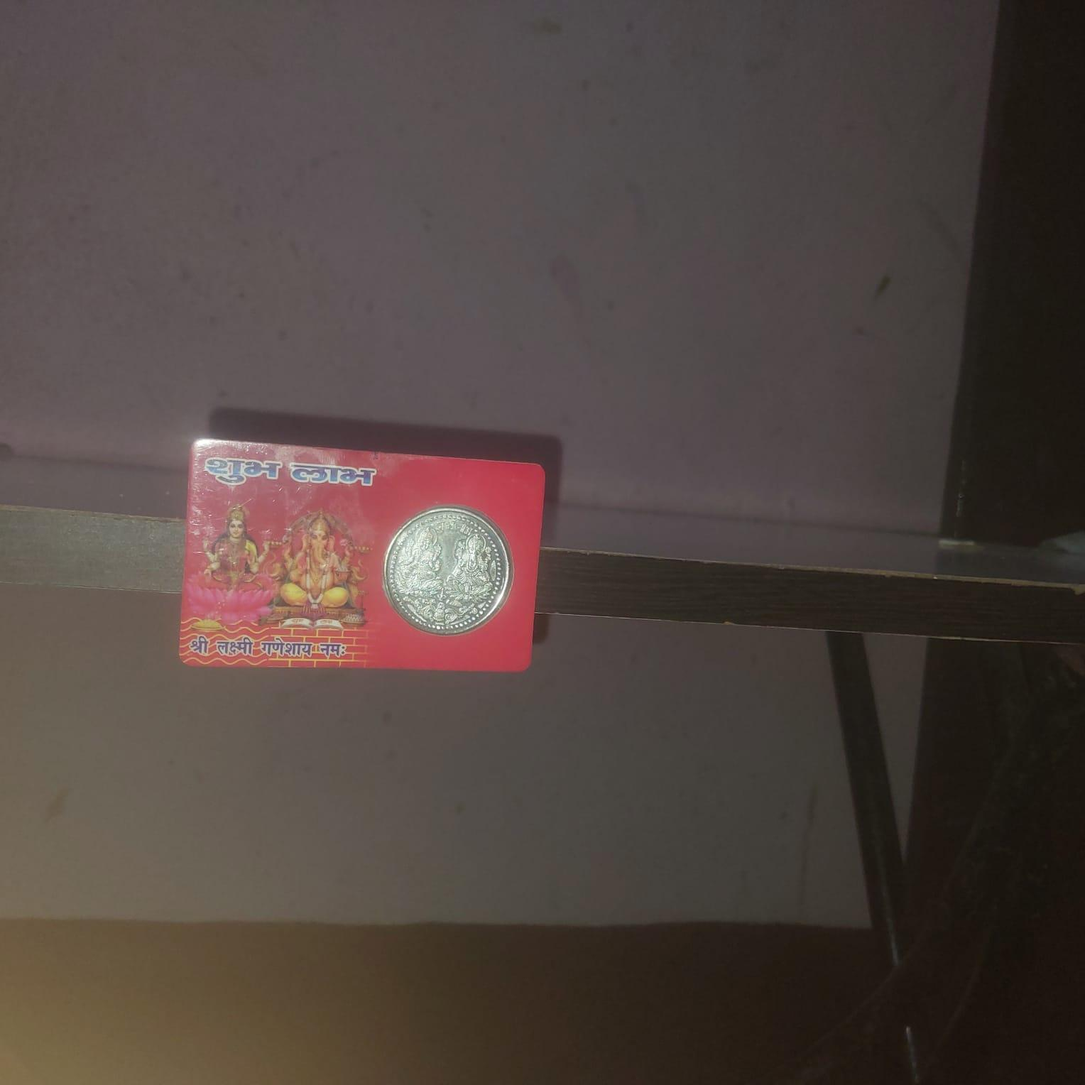blessing_card: (175, 441, 547, 677)
